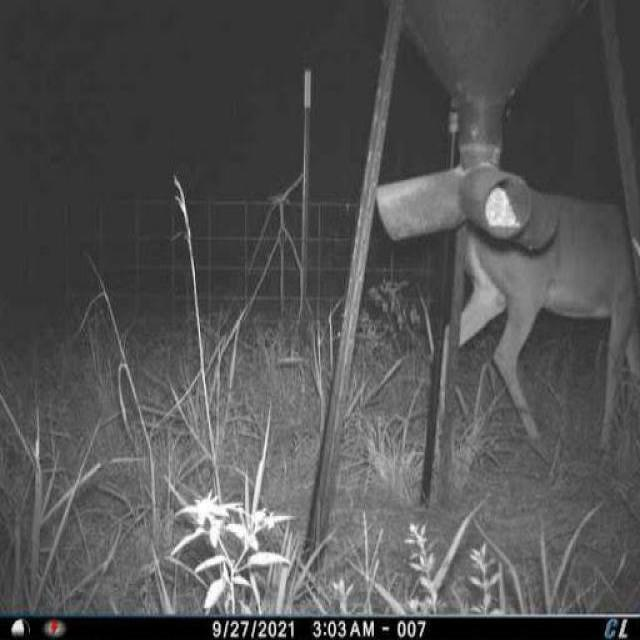deer: (446, 155, 640, 461)
